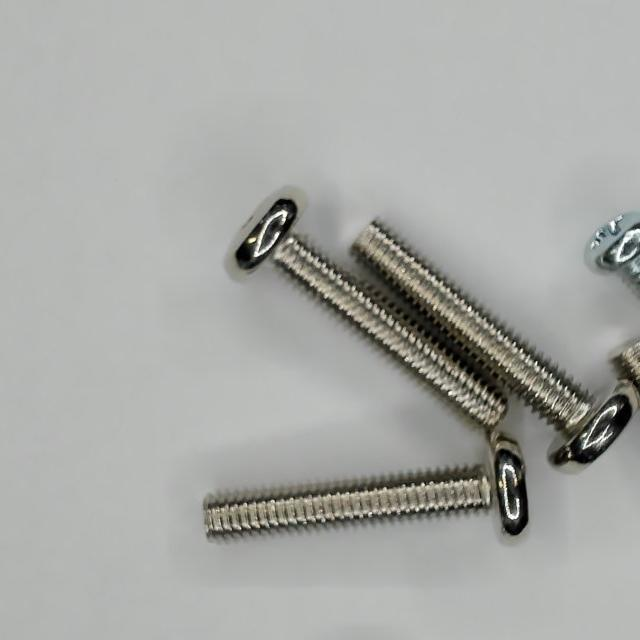Screw: (353, 223, 640, 466), (235, 197, 509, 431), (203, 432, 530, 539), (586, 211, 640, 296), (588, 213, 640, 290)
